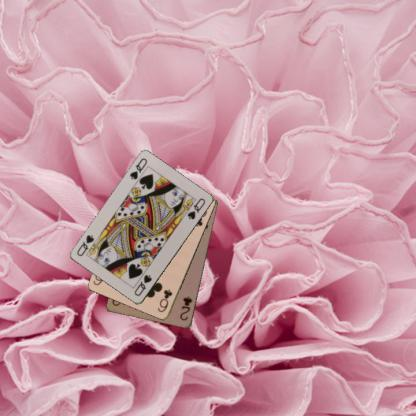2c: (178, 294, 194, 322)
6c: (155, 287, 174, 314)
Qs: (127, 156, 149, 182), (132, 272, 153, 298)
